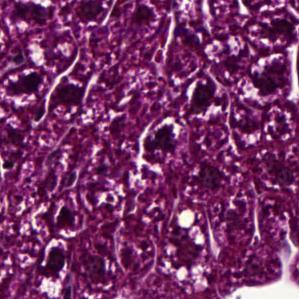inflammation: (40, 70, 99, 126), (138, 112, 186, 168), (246, 48, 292, 105), (32, 239, 74, 295), (49, 195, 90, 244), (185, 75, 230, 119)
